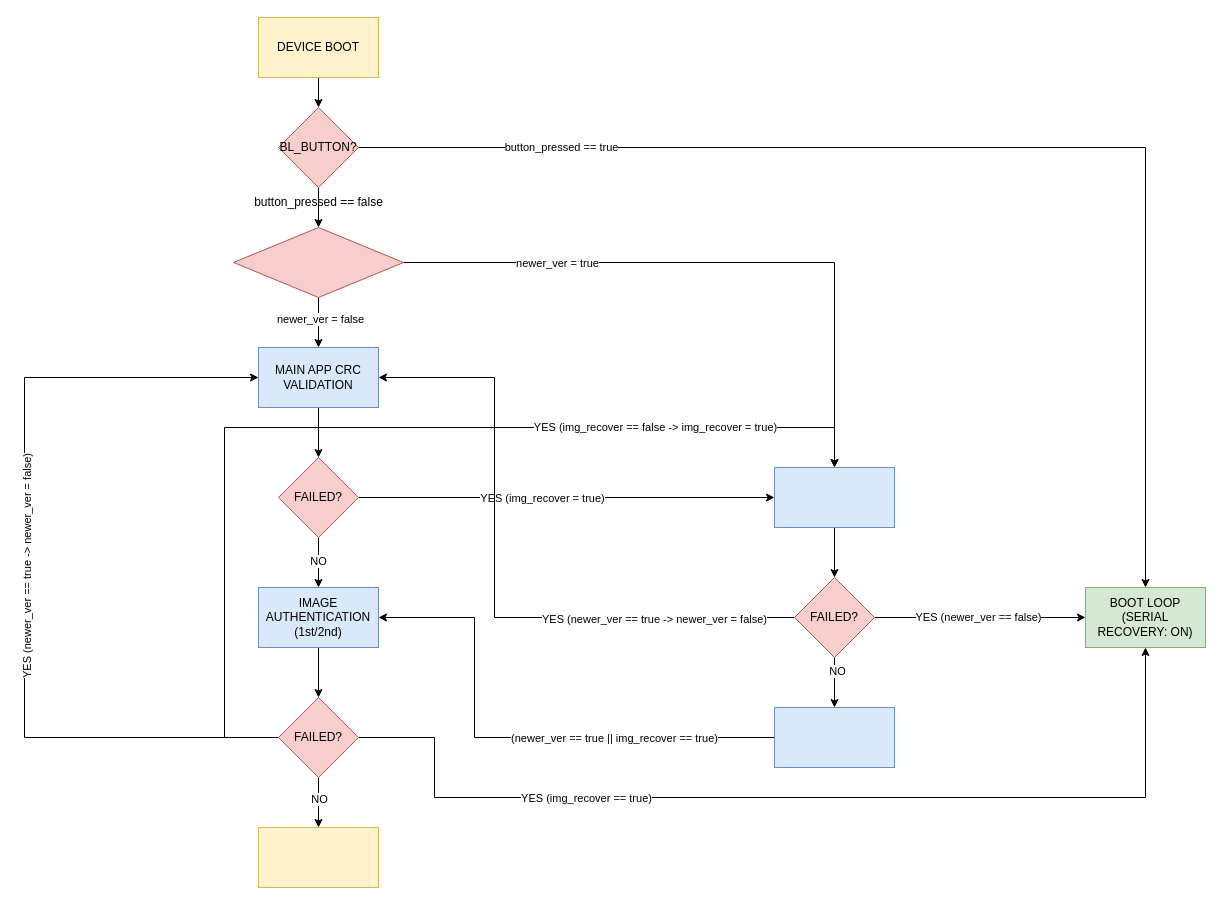
Some shapes in this 1223 by 905 pixel diagram are drawn without their labels. The centre of each missing label's shape, as x and y in pixels:
BOOT APP: point (318, 857)
IMGversion(secondary) > IMGversion(main) ?: point (318, 262)
SECONDARY APP CRC VALIDATION: point (834, 497)
TRANSFER SECONDARY IMG TO MAIN: point (834, 737)
